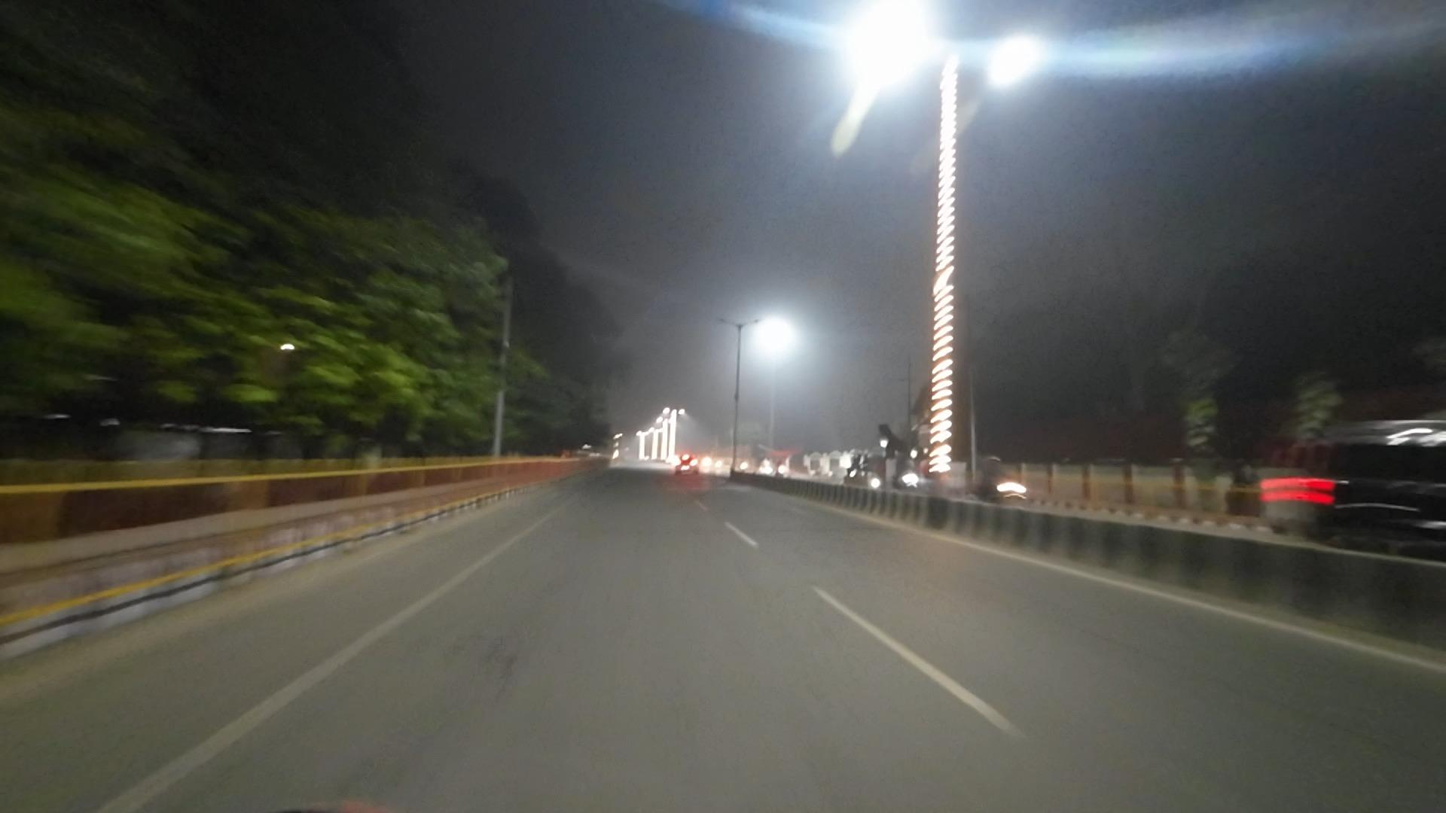streetlight: (717, 317, 736, 327), (742, 318, 761, 327)
